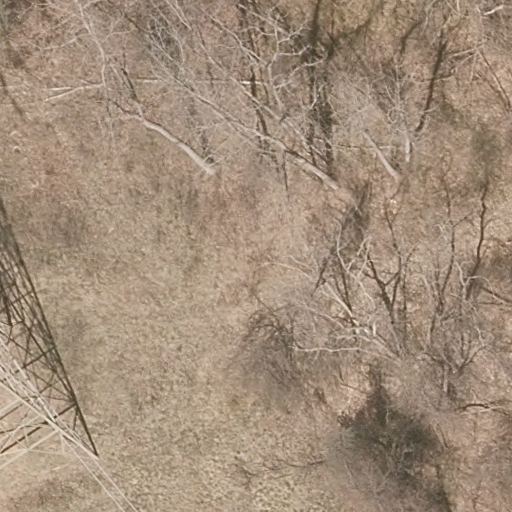TT: (1, 198, 100, 463)
